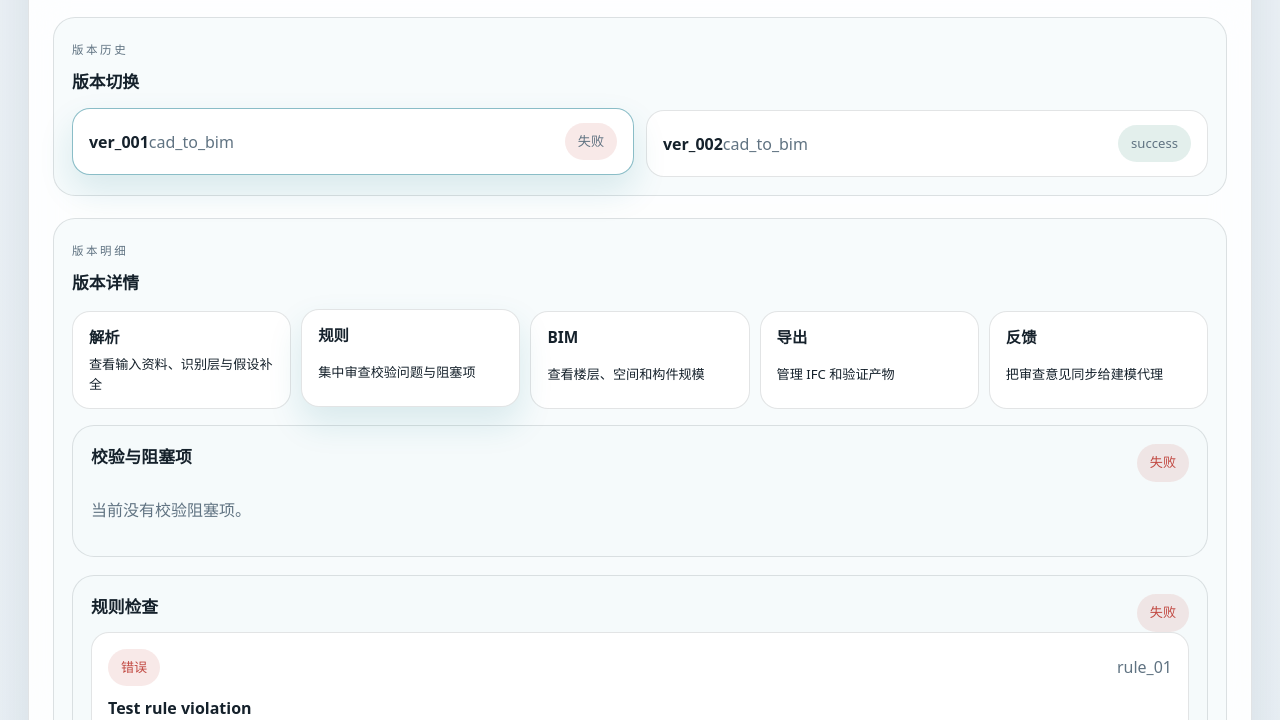
Scenario: App › shows version summary and export cards
(page scrolled)
Expected: the heading "版本详情" is shown, [72, 270, 139, 295]
Expected: the heading "校验与阻塞项" is shown, [91, 444, 192, 470]
Click the tab "导出 管理 IFC 和验证产物": (869, 360) [760, 311, 979, 409]
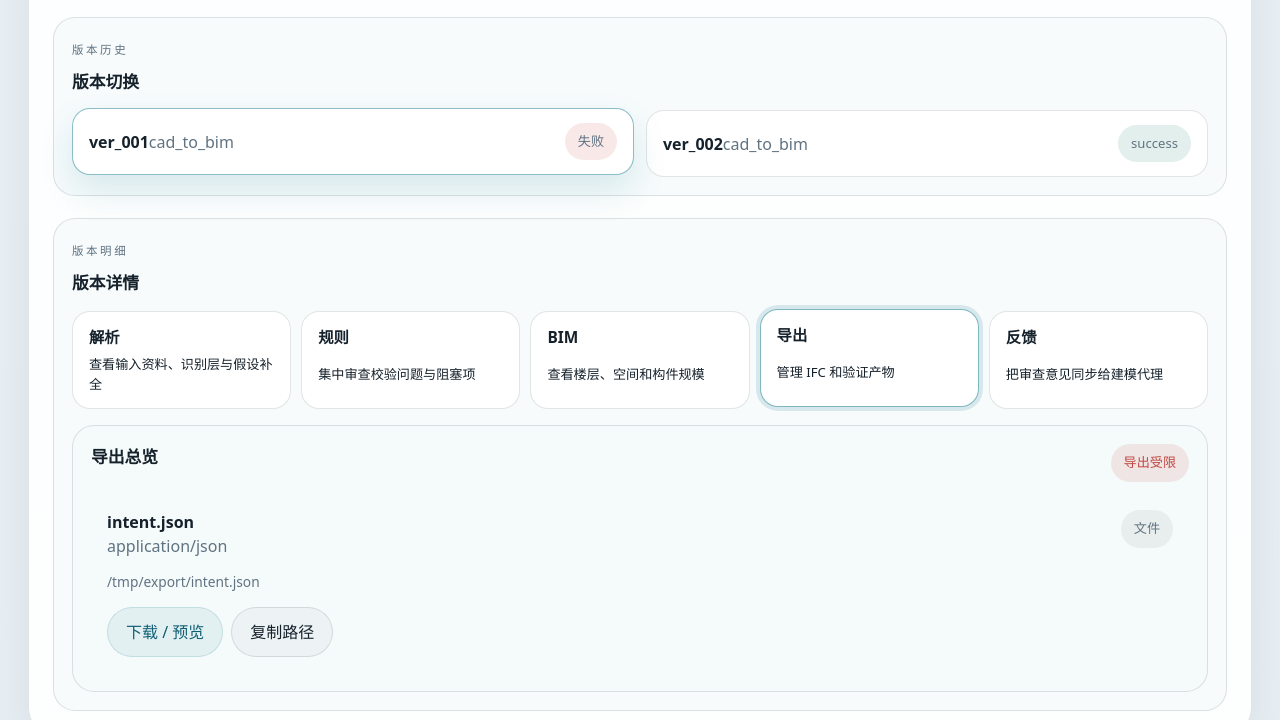
Expected: the panel "导出" is shown, [72, 425, 1208, 692]
Expected: the text "intent.json" is shown, [107, 511, 194, 533]
